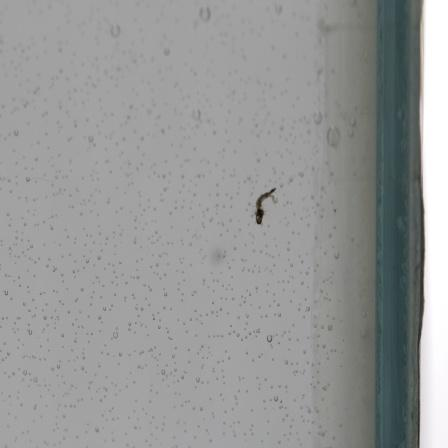Jentik-Nyamuk: (252, 182, 280, 228)
